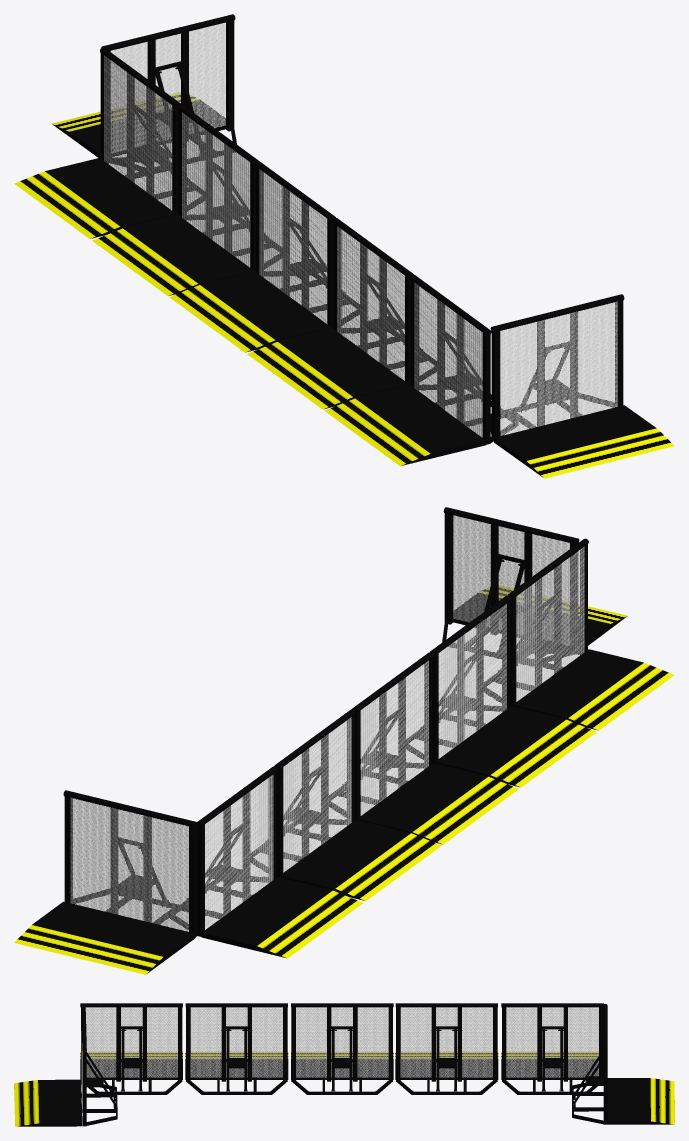
Rendered from barricade_north.glb.
3 views of the same model, one above another, from view 1: azimuth 30°, elevation 25°; view 2: azimuth 150°, elevation 25°; view 3: azimuth 270°, elevation 25° (orthographic). The views are drawn at different scales.
Parts seen in each view (by area): view 1: Plane_0.006, Plane_0.003, Plane_0.004, Plane_0, Plane_0.002, Plane_0.001, Plane_0.005; view 2: Plane_0.005, Plane_0.004, Plane_0.001, Plane_0.002, Plane_0.003, Plane_0, Plane_0.006; view 3: Plane_0.002, Plane_0.001, Plane_0, Plane_0.004, Plane_0.003, Plane_0.006, Plane_0.005.
Boxes of the visible parts, x1,y1,x2,y2 form: Plane_0.006: (490, 294, 674, 478); Plane_0.003: (324, 274, 518, 466); Plane_0.004: (14, 47, 205, 238); Plane_0: (169, 161, 359, 352); Plane_0.002: (247, 218, 436, 409); Plane_0.001: (92, 104, 282, 295); Plane_0.005: (52, 14, 236, 171); Plane_0.005: (14, 790, 197, 974); Plane_0.004: (169, 766, 363, 958); Plane_0.001: (250, 709, 441, 900); Plane_0.002: (406, 595, 596, 787); Plane_0.003: (484, 538, 674, 730); Plane_0: (328, 652, 518, 844); Plane_0.006: (442, 507, 627, 666); Plane_0.002: (185, 1003, 288, 1094); Plane_0.001: (395, 1003, 498, 1094); Plane_0: (291, 1003, 393, 1094); Plane_0.004: (501, 1003, 603, 1094); Plane_0.003: (80, 1003, 182, 1094); Plane_0.006: (14, 1005, 117, 1126); Plane_0.005: (572, 1004, 674, 1124).
Size of the model in its own units: 5.19 by 2.5 by 19.29.
Materials: 21 (14 with a texture image).
